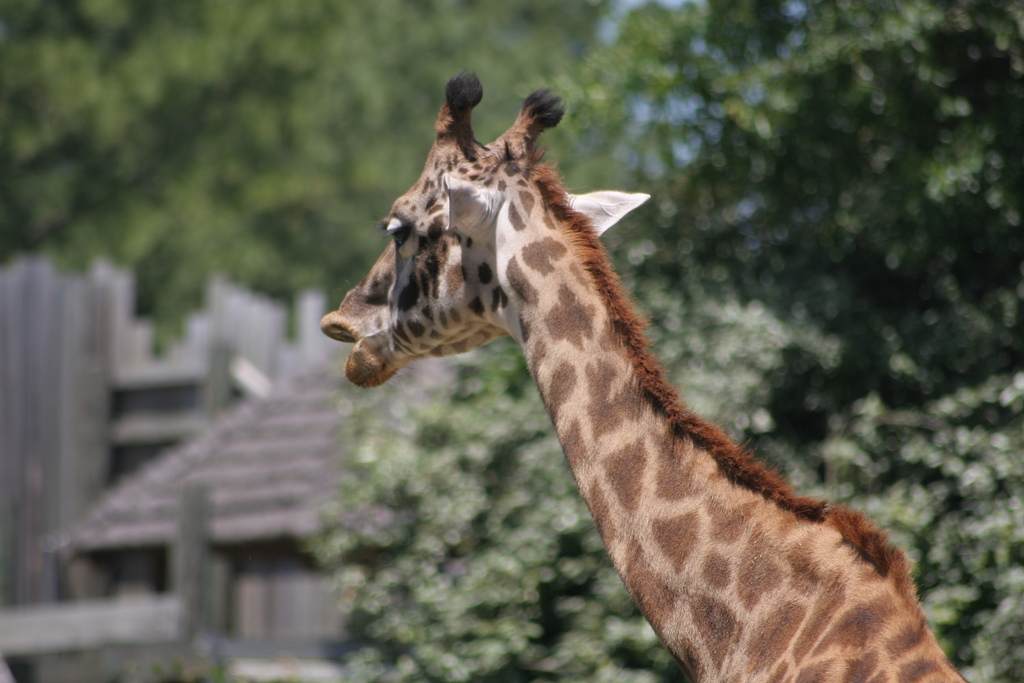giraffe: (306, 40, 944, 651)
